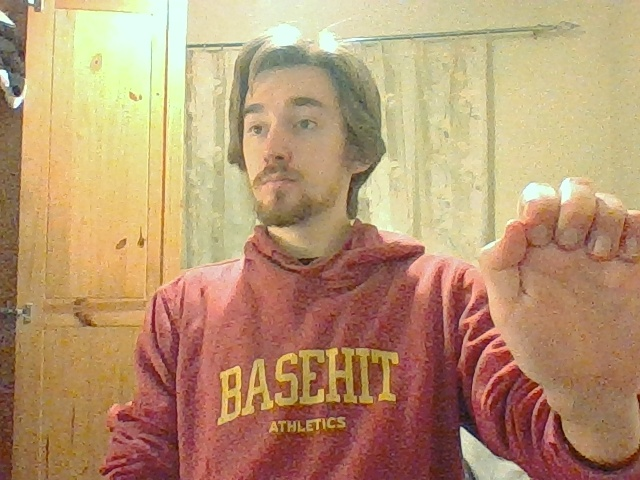your: (476, 177, 640, 389)
